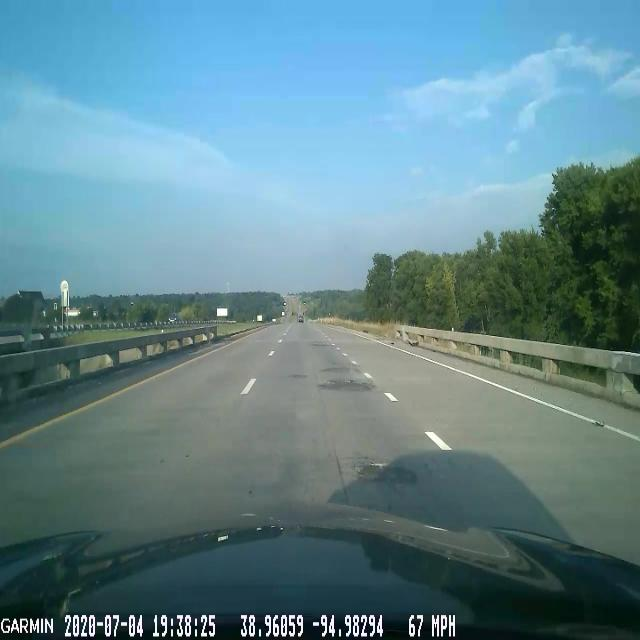Pothole: (344, 444, 424, 498), (314, 377, 377, 399)
